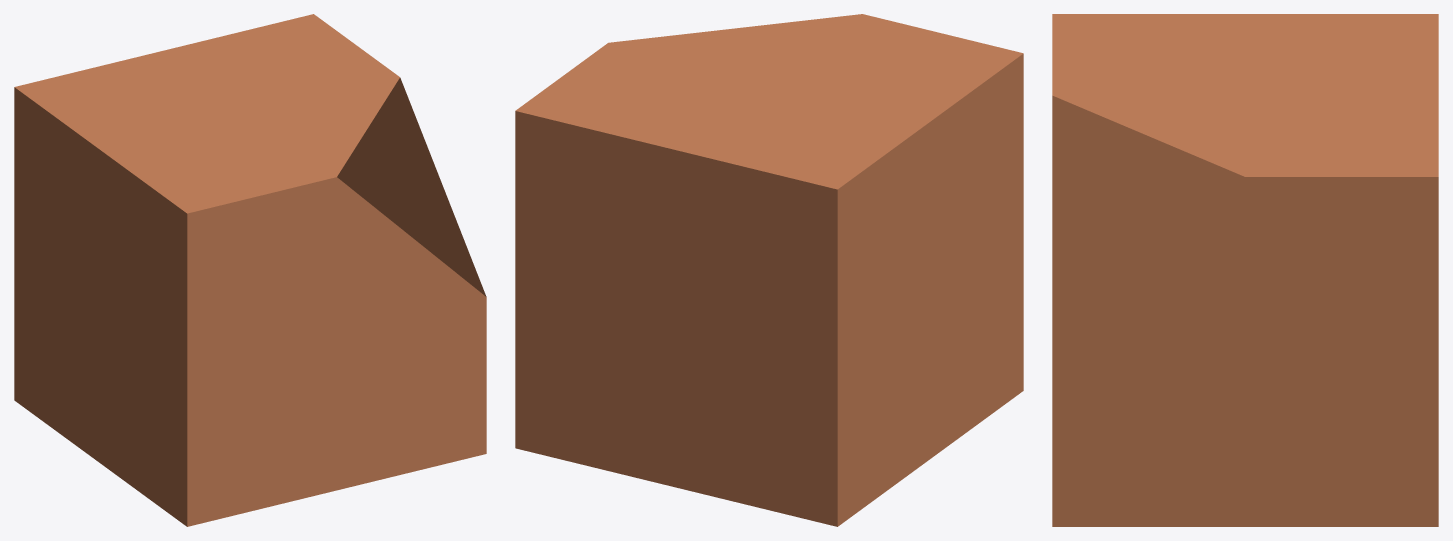
File: r3c1_body_brown.gltf
3 renders of one model, left to right at view 1: azimuth 30°, elevation 25°; view 2: azimuth 150°, elevation 25°; view 3: azimuth 270°, elevation 25°, orthographic. The views are drawn at different scales.
Visible parts, largest first — view 1: r3c1_body_brown; view 2: r3c1_body_brown; view 3: r3c1_body_brown.
Part boxes in pixels (x1,y1,x2,y2): r3c1_body_brown: [14, 14, 486, 526]; r3c1_body_brown: [515, 14, 1023, 526]; r3c1_body_brown: [1052, 14, 1438, 526].
Size of the model in its own units: 2 by 2 by 2.
Materials: 1 (1 with a texture image).
